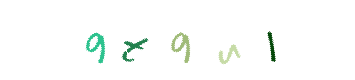1: (154, 0, 234, 80)
9: (61, 0, 141, 80), (144, 0, 224, 80)
T: (137, 0, 217, 80)
U: (149, 0, 229, 80)
